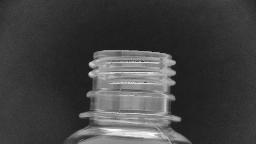No Cap: (76, 45, 186, 127)
